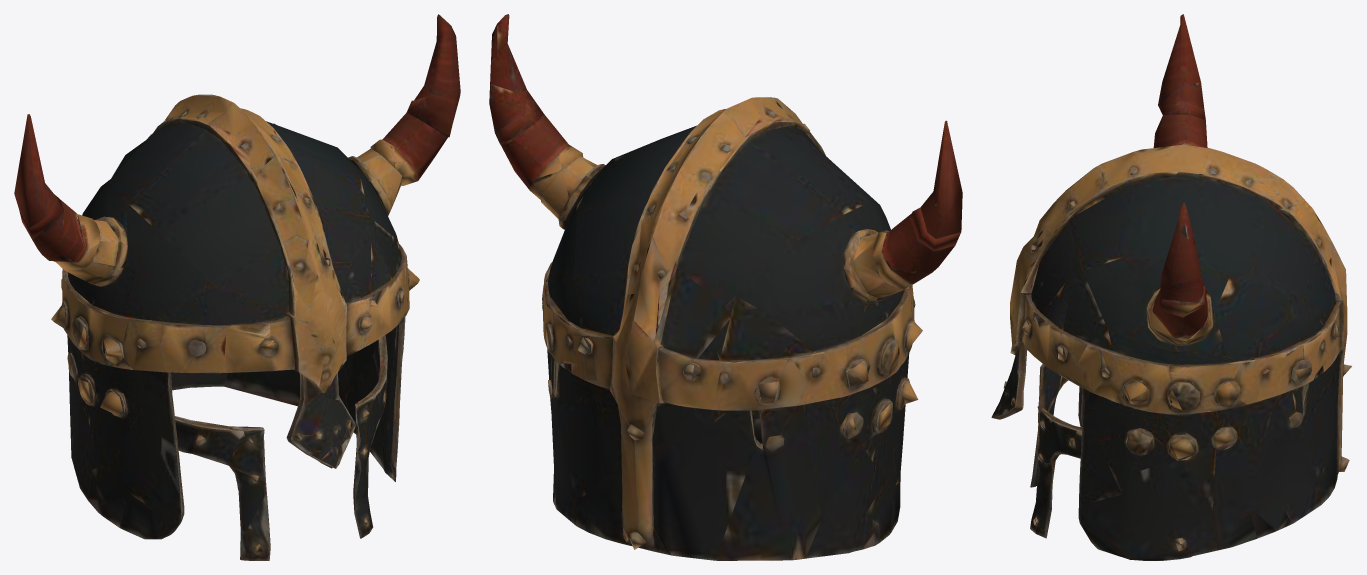
Rendered from helm-viking.glb.
The picture shows the model from 3 angles, left to right: view 1: azimuth 30°, elevation 25°; view 2: azimuth 150°, elevation 25°; view 3: azimuth 270°, elevation 25°; orthographic projection. The views are drawn at different scales.
Bounding box in the file's own units: 1.82 × 1.72 × 1.41.
1 material, 1 textured.
